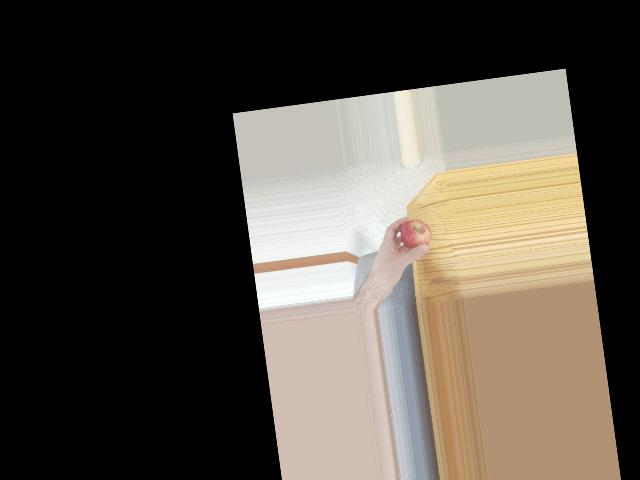apple: (397, 214, 433, 256)
